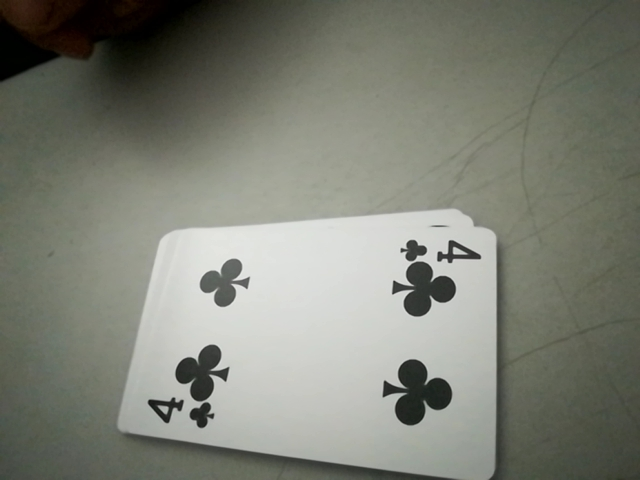mh 4: (136, 391, 221, 438), (397, 229, 485, 267)
